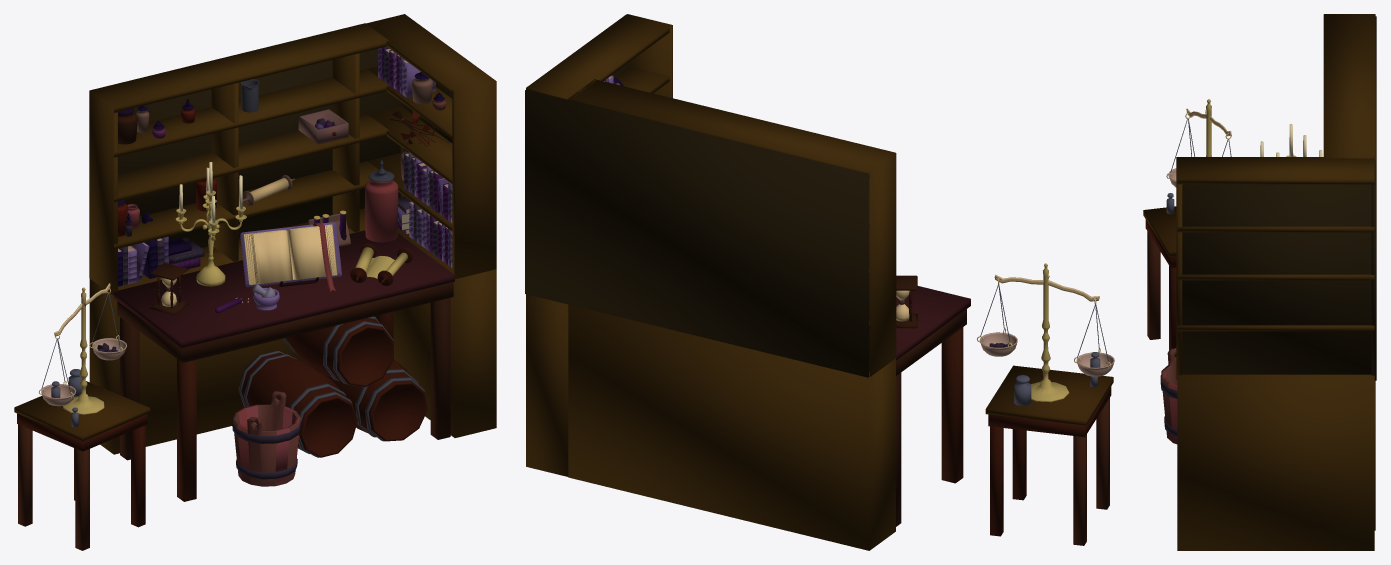
Rendered from lab_early.glb.
3 views of the same model, side by side, from view 1: azimuth 30°, elevation 25°; view 2: azimuth 150°, elevation 25°; view 3: azimuth 270°, elevation 25° (orthographic). The views are drawn at different scales.
Visible parts, largest first — view 1: Object_2, Object_4; view 2: Object_2, Object_4; view 3: Object_2, Object_4.
Boxes of the visible parts, x1,y1,x2,y2 form: Object_2: (14,14,496,550); Object_4: (51,72,432,427); Object_2: (525,14,1114,550); Object_4: (613,77,1100,406); Object_2: (1143,14,1376,550); Object_4: (1166,99,1296,214).
Size of the model in its own units: 518 by 389 by 217.
Materials: 2 (2 with a texture image).
